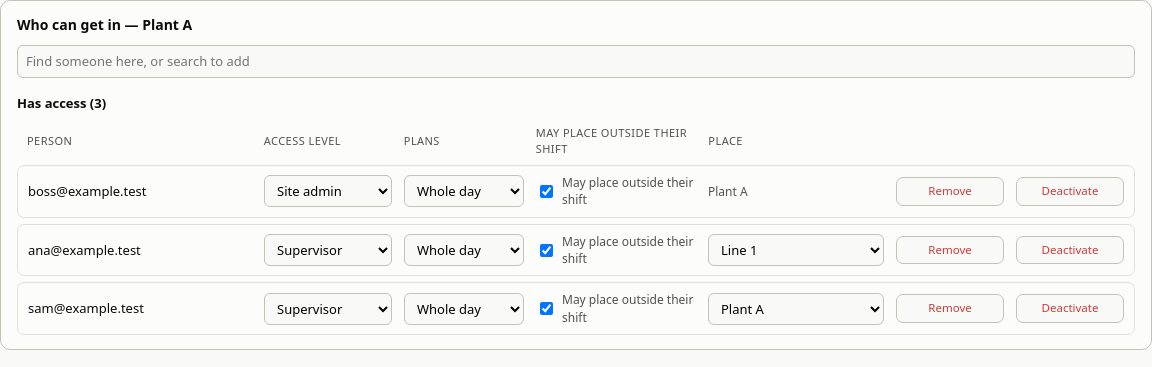
Test: R-369 Layout: order and the add section › the Add someone section is hidden until a search is running
Expected: the heading "Add someone" is not shown
Type "nobody@example.test" into the search field labelled "Find someone here, or search to add" at (576, 62), box [17,45,1135,78]
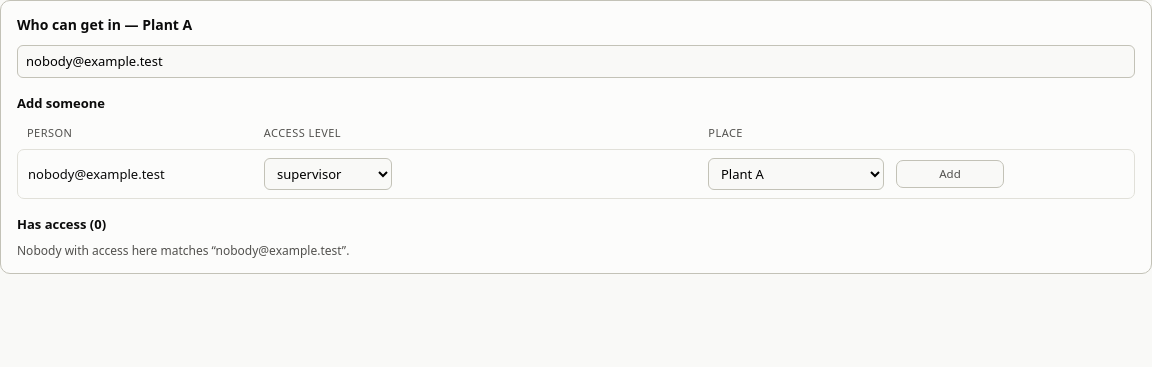
Expected: the heading "Add someone" is shown, [17,94,105,112]
